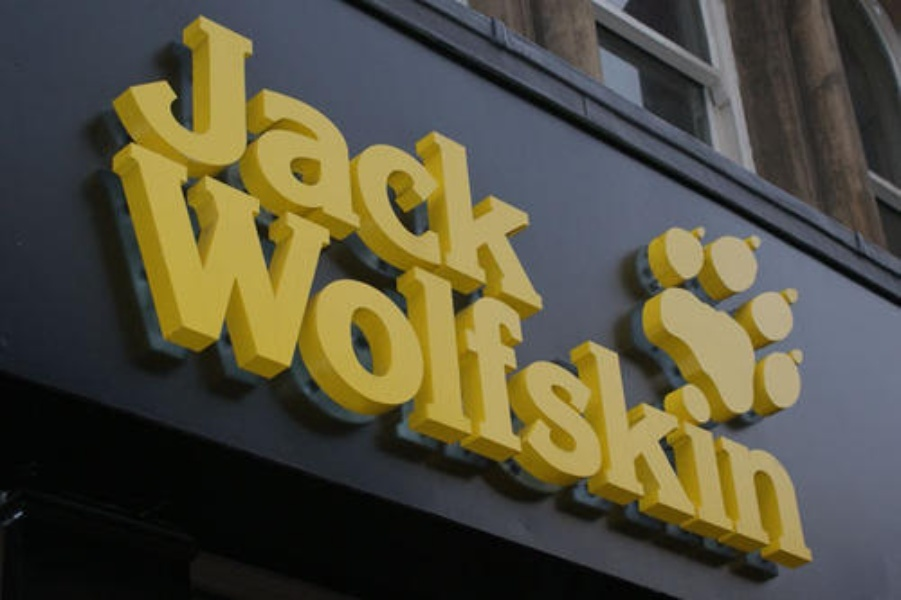text: (113, 121, 128, 584), (129, 121, 144, 584), (145, 121, 160, 584), (161, 121, 176, 584), (177, 121, 192, 584), (193, 121, 208, 584), (209, 121, 224, 584), (225, 121, 240, 584), (241, 121, 256, 584), (257, 121, 272, 584), (273, 121, 288, 584), (289, 121, 304, 584), (305, 121, 320, 584), (321, 121, 336, 584), (337, 121, 352, 584), (353, 121, 368, 584), (369, 121, 384, 584), (385, 121, 400, 584), (401, 121, 416, 584), (417, 121, 432, 584), (433, 121, 448, 584), (449, 121, 464, 584), (465, 121, 480, 584), (481, 121, 496, 584), (497, 121, 512, 584), (513, 121, 528, 584), (529, 121, 544, 584), (545, 121, 560, 584), (561, 121, 576, 584), (577, 121, 592, 584), (593, 121, 608, 584), (609, 121, 624, 584), (625, 121, 640, 584), (641, 121, 656, 584), (657, 121, 672, 584), (673, 121, 688, 584), (689, 121, 704, 584), (705, 121, 720, 584), (721, 121, 736, 584), (737, 121, 752, 584), (753, 121, 768, 584), (769, 121, 784, 584), (785, 121, 800, 584), (801, 121, 816, 584), (98, 121, 112, 584), (145, 1, 160, 323), (161, 1, 176, 323), (177, 1, 192, 323), (193, 1, 208, 323), (209, 1, 224, 323), (225, 1, 240, 323), (241, 1, 256, 323), (257, 1, 272, 323), (273, 1, 288, 323), (289, 1, 304, 323), (305, 1, 320, 323), (321, 1, 336, 323), (337, 1, 352, 323), (353, 1, 368, 323), (369, 1, 384, 323), (385, 1, 400, 323), (401, 1, 416, 323), (417, 1, 432, 323), (433, 1, 448, 323), (449, 1, 464, 323), (465, 1, 480, 323), (481, 1, 496, 323), (497, 1, 512, 323), (513, 1, 528, 323), (529, 1, 544, 323), (817, 121, 826, 584), (137, 1, 144, 323), (545, 1, 550, 323)
